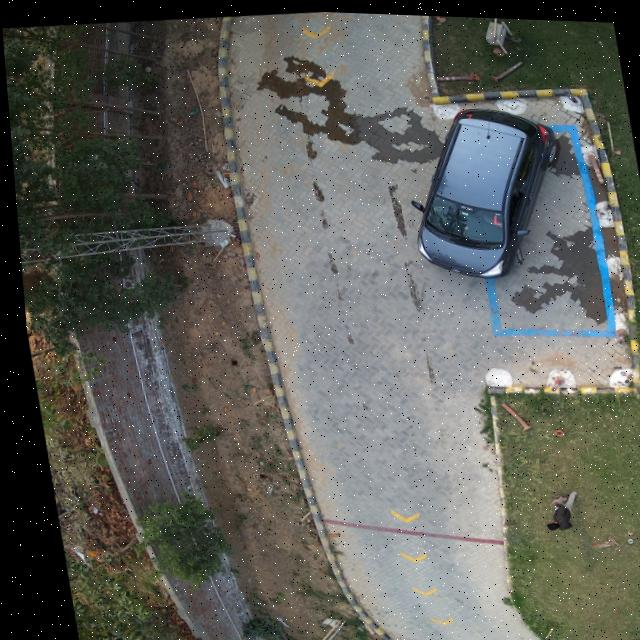car: (415, 105, 546, 275)
